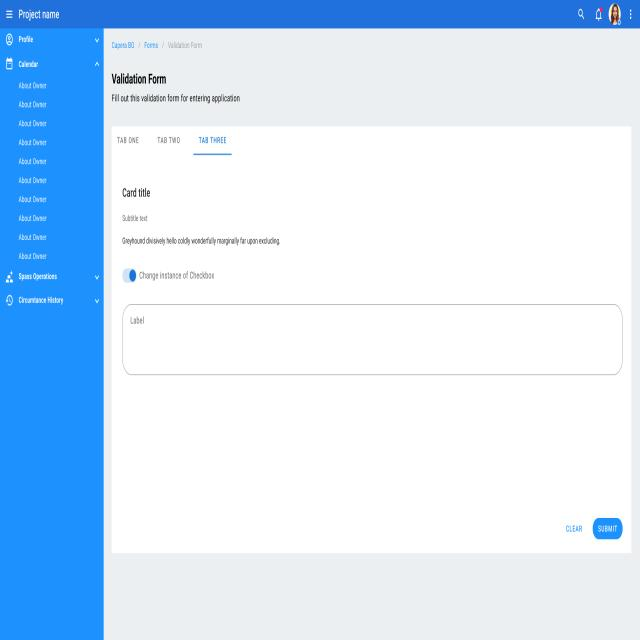QLabel: (121, 235, 281, 247), (111, 93, 242, 105), (111, 72, 166, 85), (18, 8, 60, 22), (120, 187, 150, 199), (120, 214, 149, 224), (198, 136, 227, 145), (596, 524, 618, 534), (157, 136, 180, 144), (117, 136, 139, 144), (564, 524, 583, 533)
QMenu: (0, 29, 103, 640)
VAppBar: (0, 0, 640, 28)
VBadge: (608, 3, 622, 26), (595, 7, 603, 22)
VBreadcrumbs: (110, 39, 202, 52)
VBtn: (592, 517, 623, 540), (559, 518, 588, 538)
VCard: (110, 124, 632, 556)
VIcon: (5, 7, 14, 21), (577, 8, 585, 21), (629, 9, 633, 20)
VSwitch: (121, 266, 216, 285)
VTab: (191, 132, 232, 152), (114, 133, 150, 151), (152, 132, 186, 151)
VTabs: (113, 130, 630, 158)
VTextarea: (121, 303, 624, 377)
